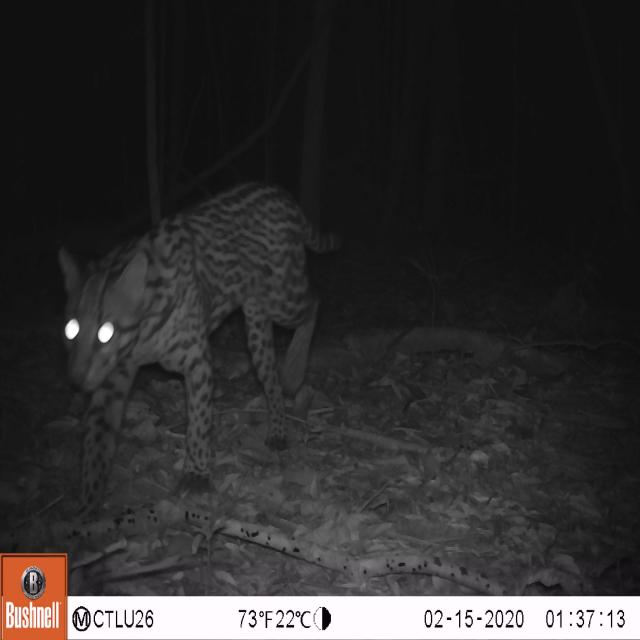Ocelote: (37, 172, 351, 522)
